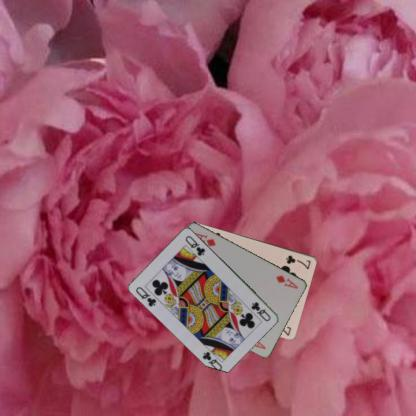7c: (284, 252, 312, 271)
Ad: (274, 272, 300, 290)
Qc: (134, 284, 158, 308), (249, 300, 272, 322)
